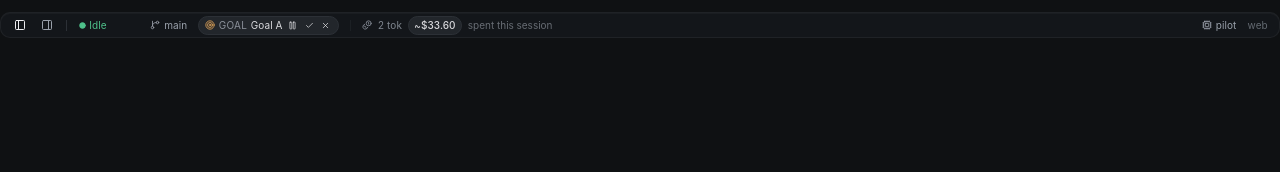
Test: fences late goal mutations and state reads across session switches
The width and height of the screenshot is (1280, 172).
Expected: the text "Goal A" is shown, [251,18,282,33]
Click the button named "Pause session GOAL".
click(293, 25)  # box [286,19,299,32]
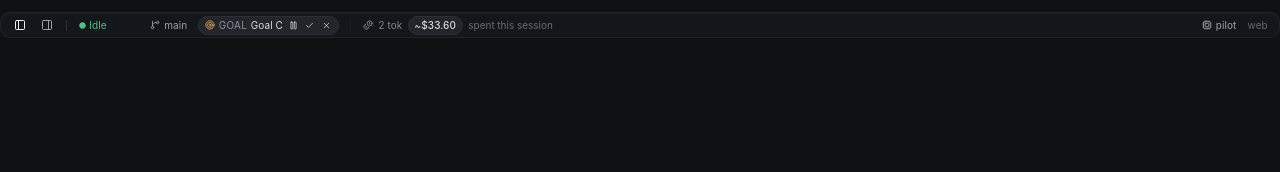
Result: the text "Goal A" is gone
Result: the text "Goal C" is shown at [251,18,283,33]
